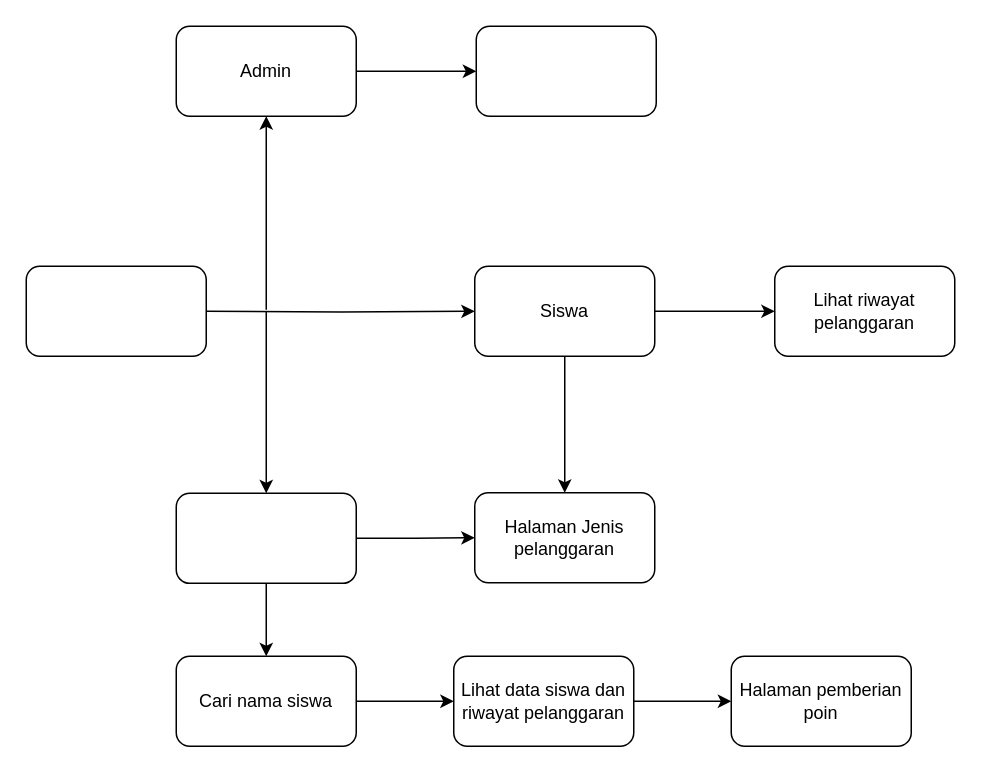
The diagram is 981 pixels wide and 773 high, and some of its shapes have lost their labels. The shapes that lost their labels are listed below. From the top down, each one's centre as x and y in pixels, then its label:
At point 565,70: "Mengelola data laporan guru dan siswa".
At point 115,310: "Login".
At point 265,537: "Guru".
